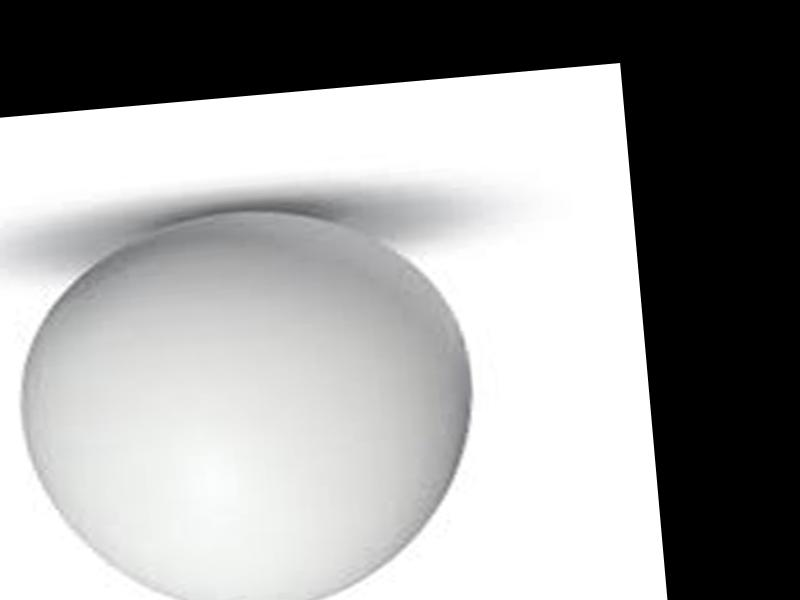Eggs: (7, 195, 482, 600)
